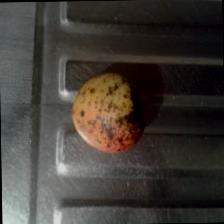Mango Overripe: (67, 70, 149, 153)
